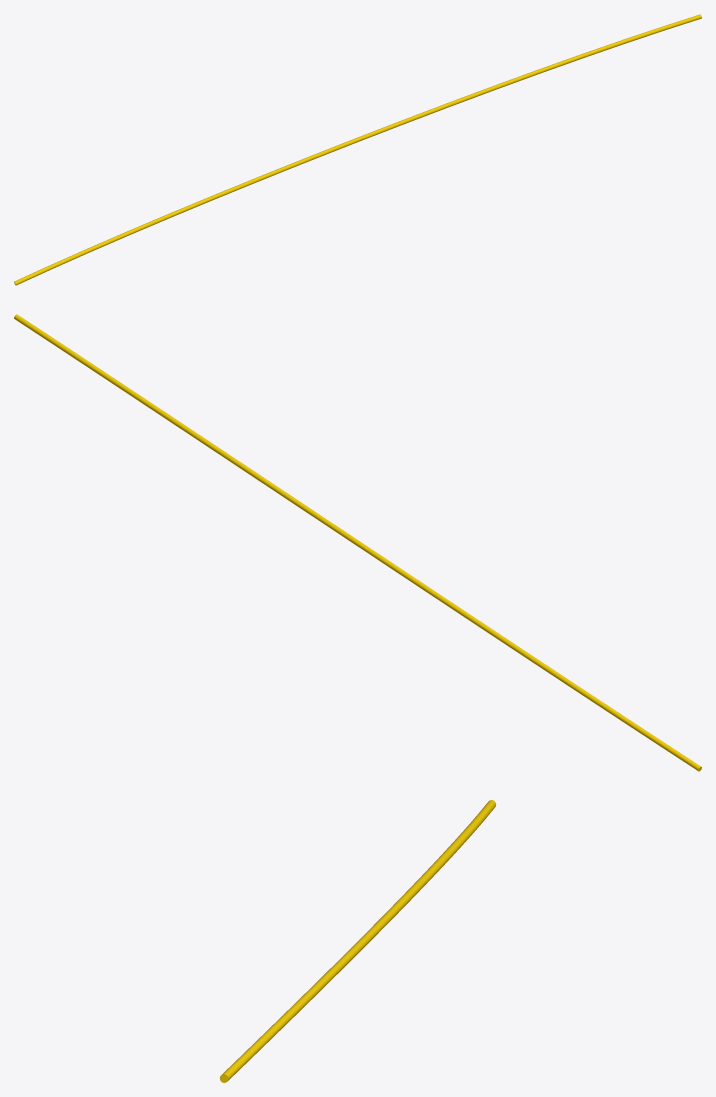
File: Event_421115418_track_21.fbx
3 renders of one model, top to bottom at view 1: azimuth 30°, elevation 25°; view 2: azimuth 150°, elevation 25°; view 3: azimuth 270°, elevation 25°, orthographic. The views are drawn at different scales.
Visible parts, largest first — view 1: Model; view 2: Model; view 3: Model.
Boxes of the visible parts, x1,y1,x2,y2 form: Model: (14,14,701,285); Model: (14,314,701,771); Model: (219,800,496,1082).
Bounding box in the file's own units: 6.39 × 1.67 × 1.23.
